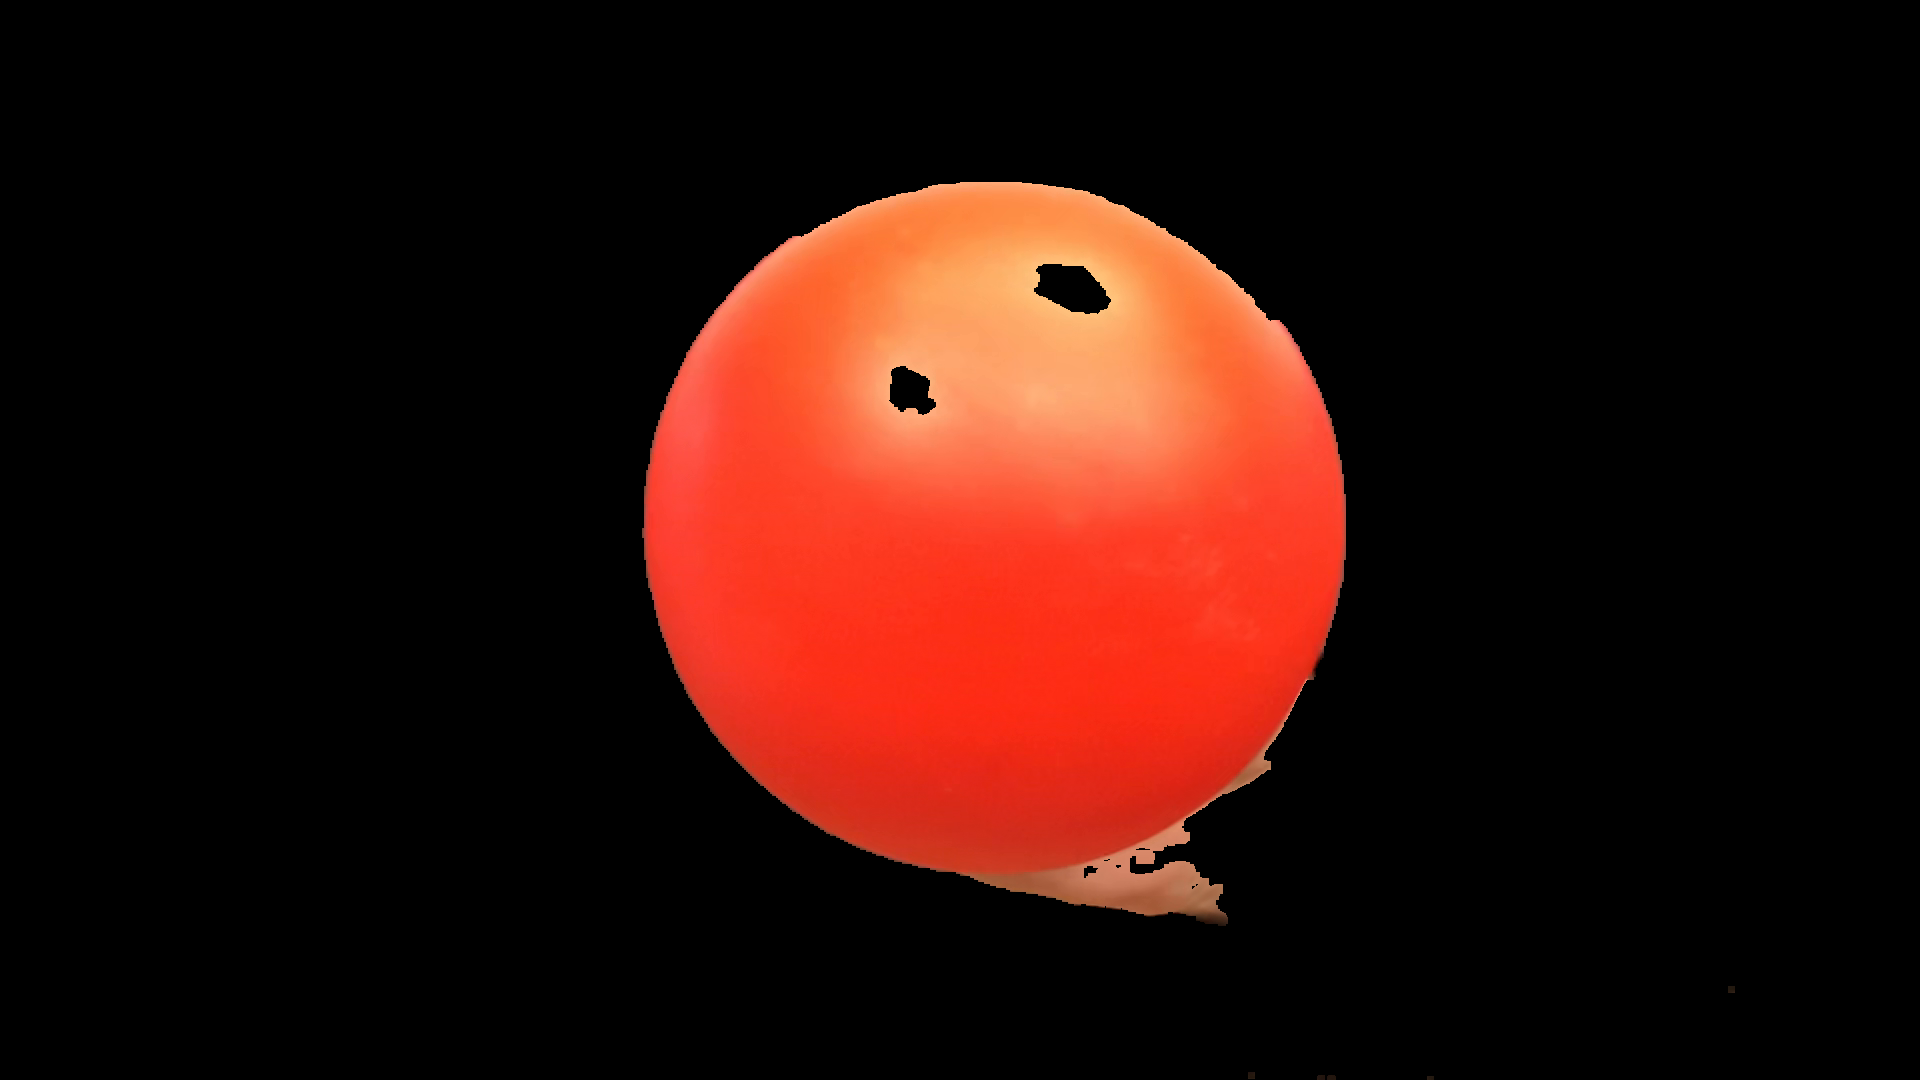Ball: (642, 165, 1342, 887)
